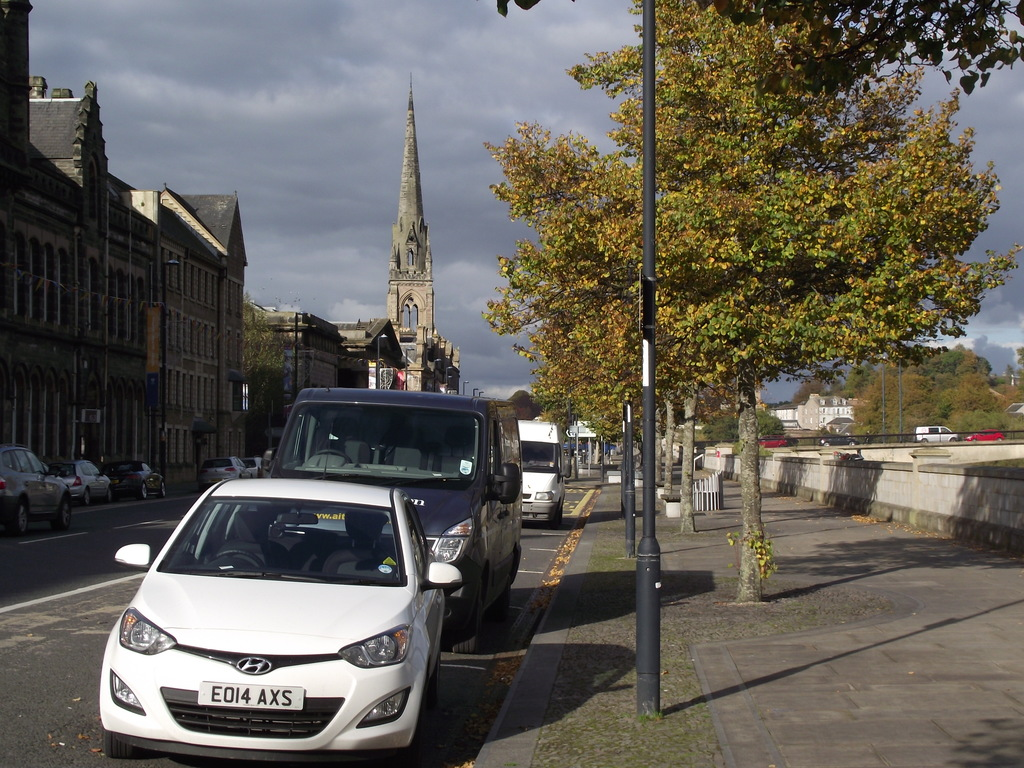cars: (98, 485, 446, 768), (0, 442, 71, 526), (47, 453, 118, 503), (98, 456, 175, 497), (197, 451, 249, 489)
